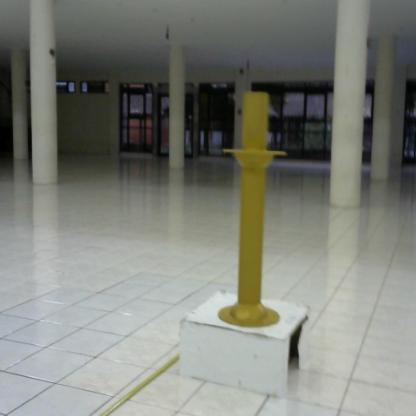pole: (218, 89, 292, 334)
